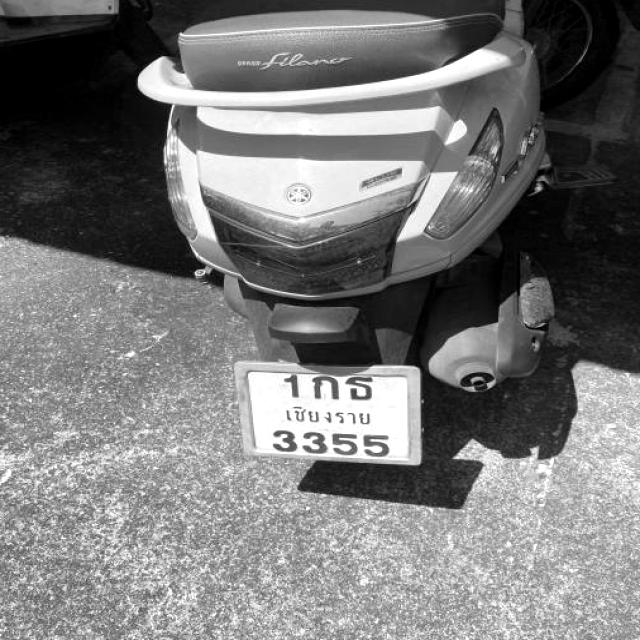letters: (349, 371, 375, 412), (309, 370, 337, 402), (304, 425, 328, 457), (332, 430, 359, 456), (366, 434, 388, 458), (283, 368, 300, 397), (277, 425, 292, 448)
license-plate: (245, 366, 415, 466)
province: (288, 399, 369, 427)
